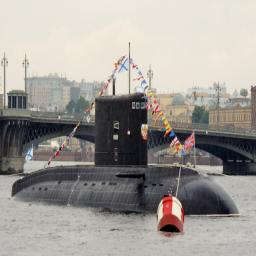submarine: (14, 93, 240, 217)
